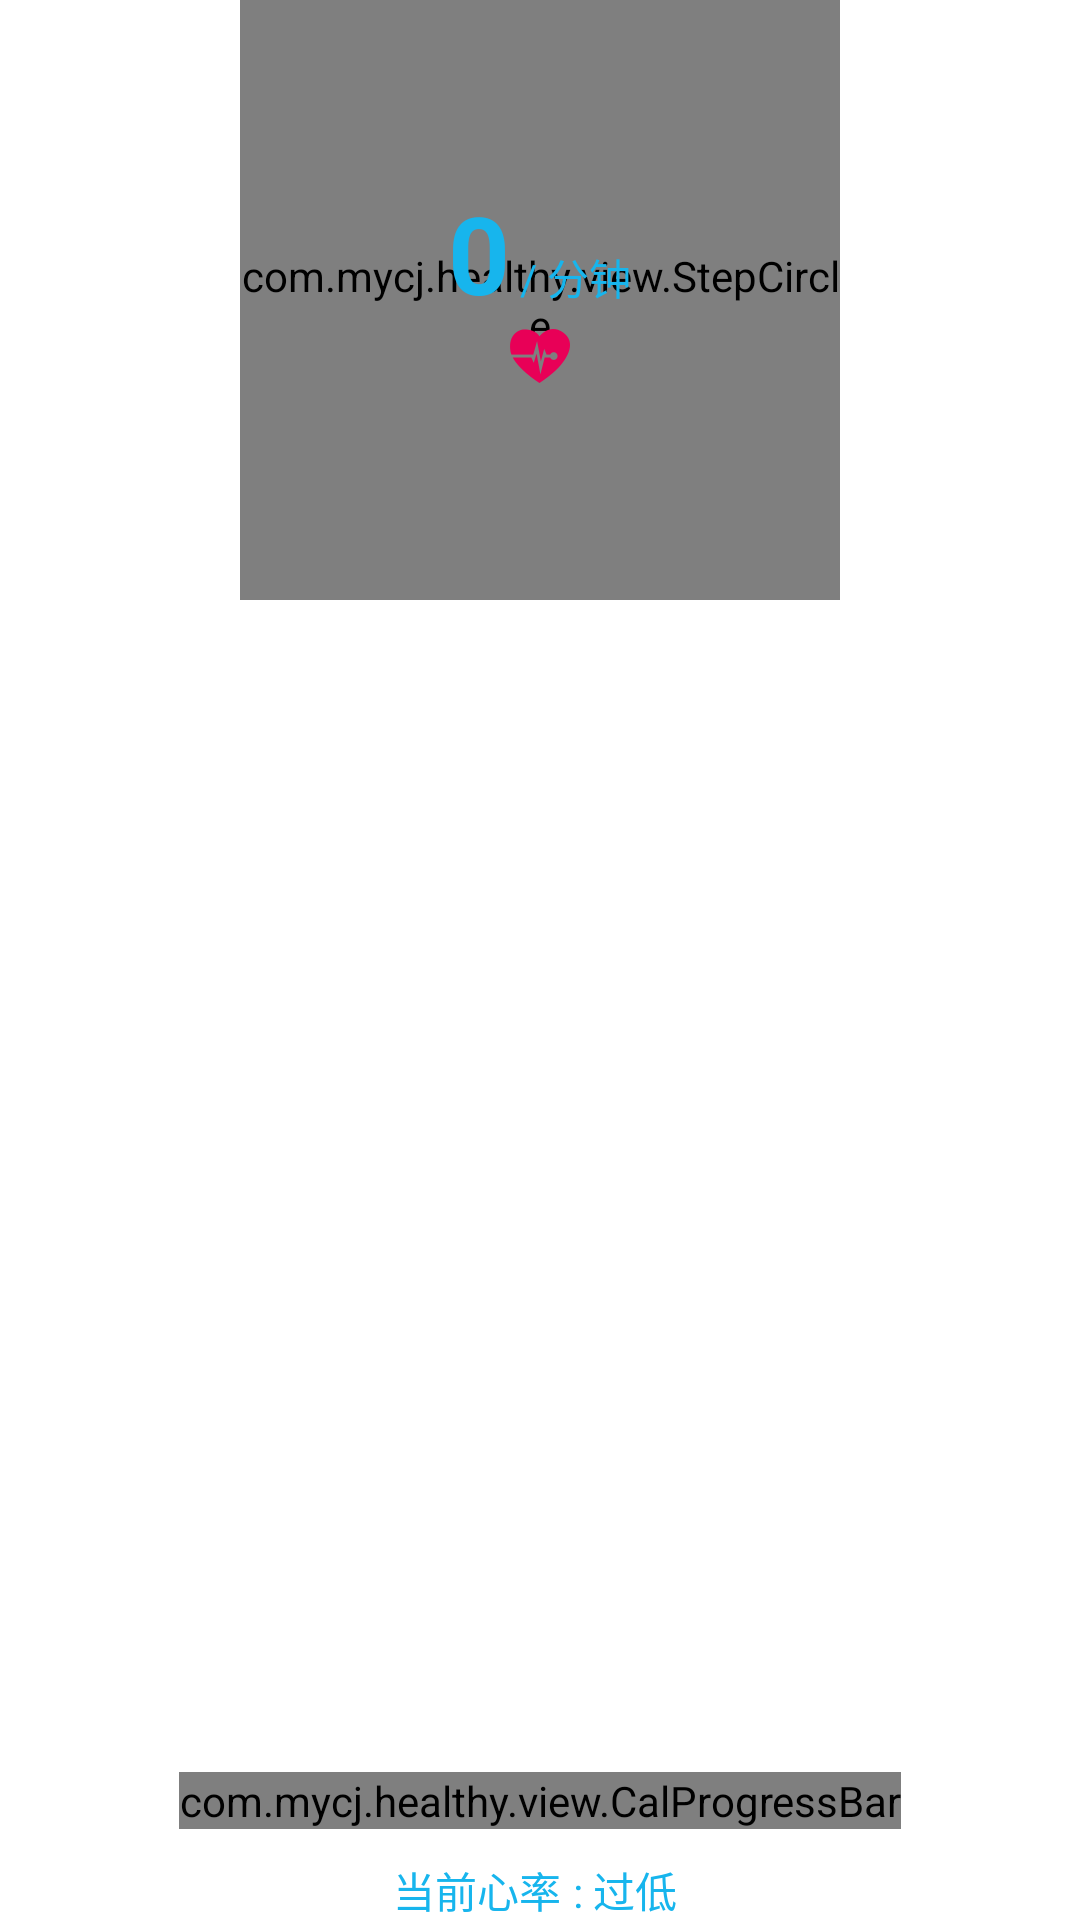

Named icons in this screenshot (1080px×1920px) and their centers, point (x, y):
heart: point (540, 354)
